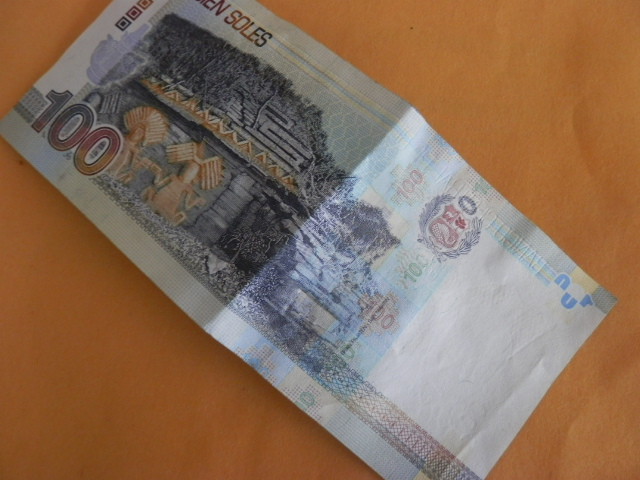B100: (11, 8, 616, 464)
